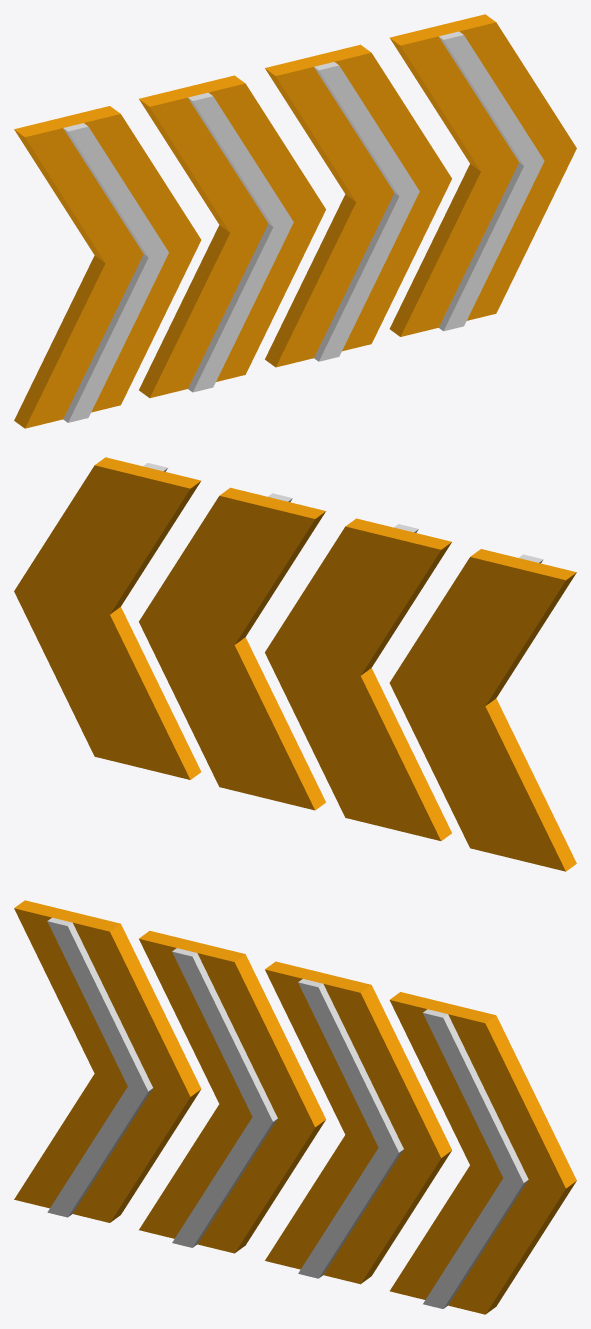
The model's file is path_arrows.fbx.
3 views of the same model, one above another, from view 1: azimuth 30°, elevation 25°; view 2: azimuth 150°, elevation 25°; view 3: azimuth 330°, elevation 25° (orthographic).
Parts seen in each view (by area): view 1: Cube; view 2: Cube; view 3: Cube.
Boxes of the visible parts, x1,y1,x2,y2 form: Cube: [14, 14, 576, 428]; Cube: [14, 457, 576, 871]; Cube: [14, 900, 576, 1314].
Size of the model in its own units: 237 by 120 by 11.8.
